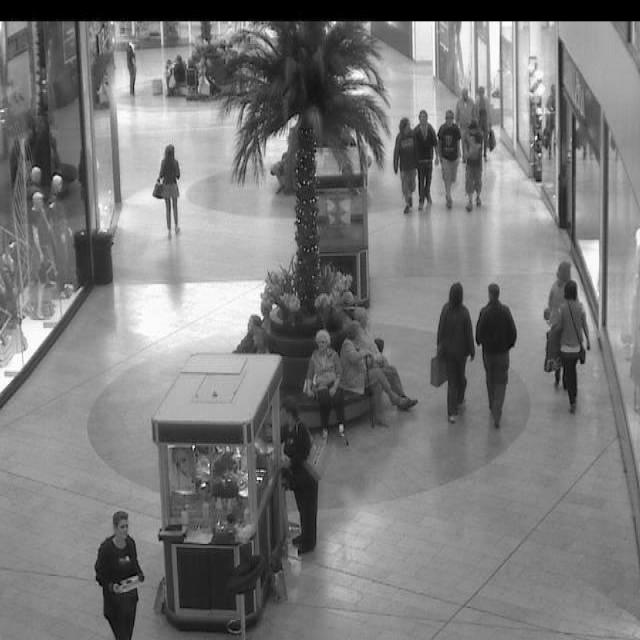person: (340, 321, 406, 432), (96, 509, 147, 639), (476, 280, 520, 428), (279, 403, 320, 549), (548, 274, 590, 414), (434, 286, 476, 426), (303, 331, 342, 438), (152, 144, 182, 236), (413, 111, 439, 210), (462, 120, 488, 215), (437, 112, 463, 205), (395, 119, 421, 212), (352, 302, 388, 362), (547, 249, 574, 315), (233, 314, 270, 354), (474, 80, 494, 143), (456, 82, 476, 130), (337, 283, 358, 321), (196, 56, 214, 99), (125, 43, 138, 92), (171, 56, 186, 92), (163, 56, 174, 93)
